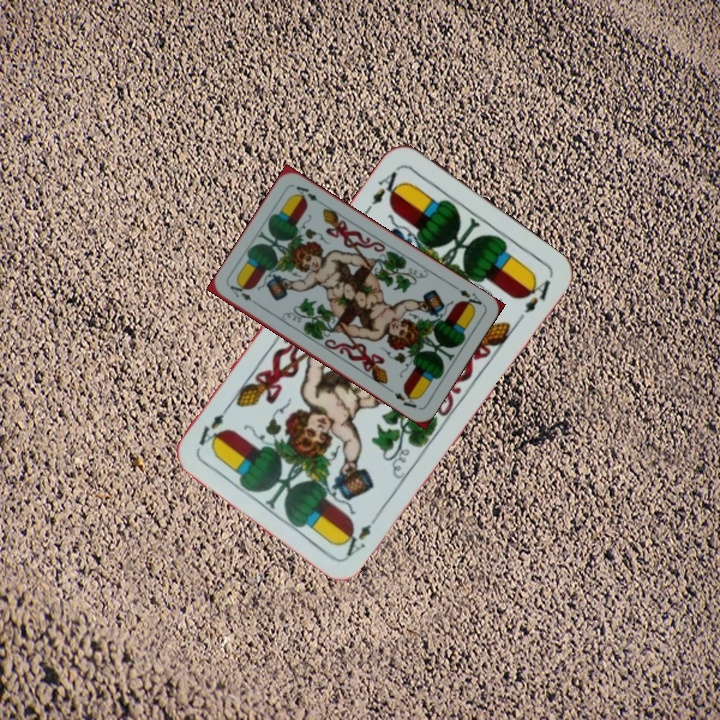EA: (337, 509, 382, 560), (362, 163, 406, 215), (449, 282, 485, 312), (225, 281, 254, 303)
